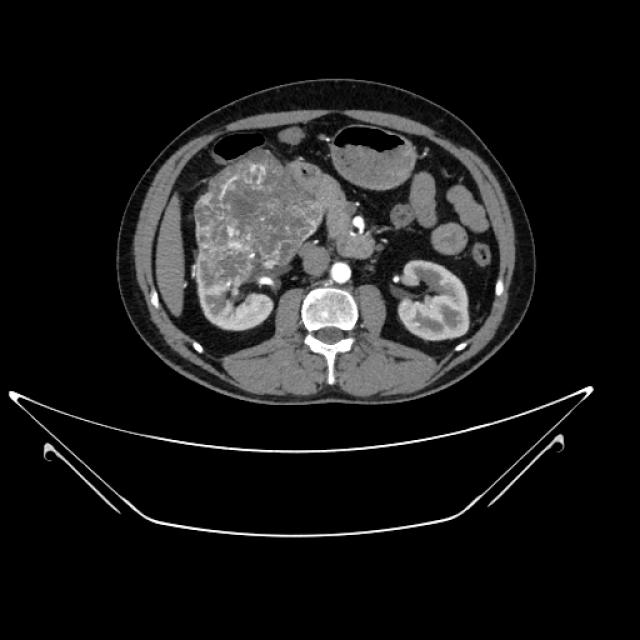Tumor: (171, 145, 339, 278)
